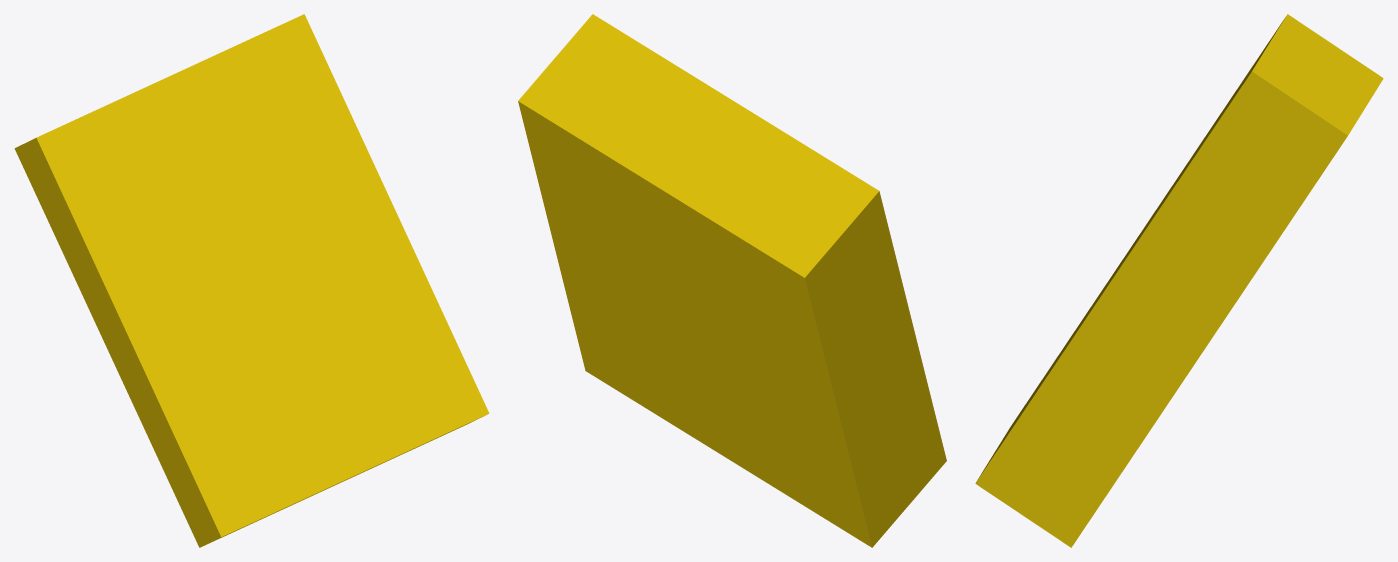
File: arms_rigged_BOX.fbx
3 renders of one model, left to right at view 1: azimuth 30°, elevation 25°; view 2: azimuth 150°, elevation 25°; view 3: azimuth 270°, elevation 25°, orthographic. The views are drawn at different scales.
Visible parts, largest first — view 1: CerealBoxFlat; view 2: CerealBoxFlat; view 3: CerealBoxFlat.
Part boxes in pixels (x1=…): CerealBoxFlat: x1=14, y1=14, x2=489, y2=547; CerealBoxFlat: x1=518, y1=14, x2=946, y2=547; CerealBoxFlat: x1=975, y1=14, x2=1383, y2=547.
Bounding box in the file's own units: 43.22 × 54.72 × 39.45.
